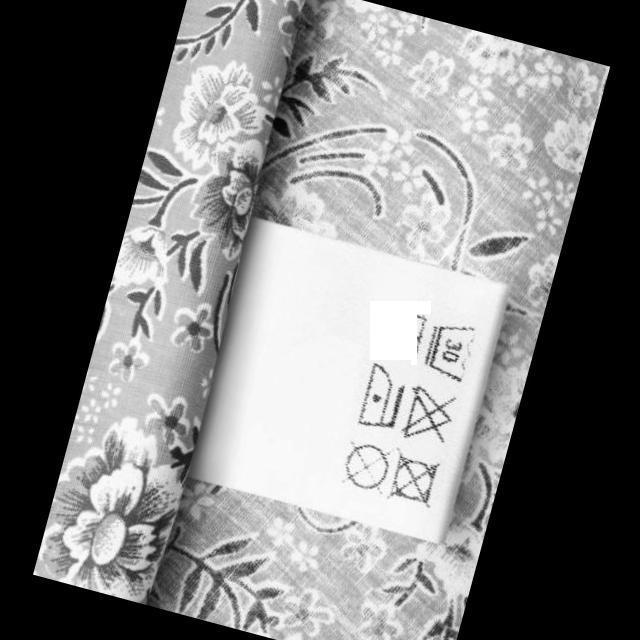30C: (417, 314, 480, 389)
DN_bleach: (395, 381, 461, 452)
DN_dry_clean: (332, 432, 397, 502)
DN_tumble_dry: (381, 446, 444, 512)
iron_low: (352, 361, 410, 436)
